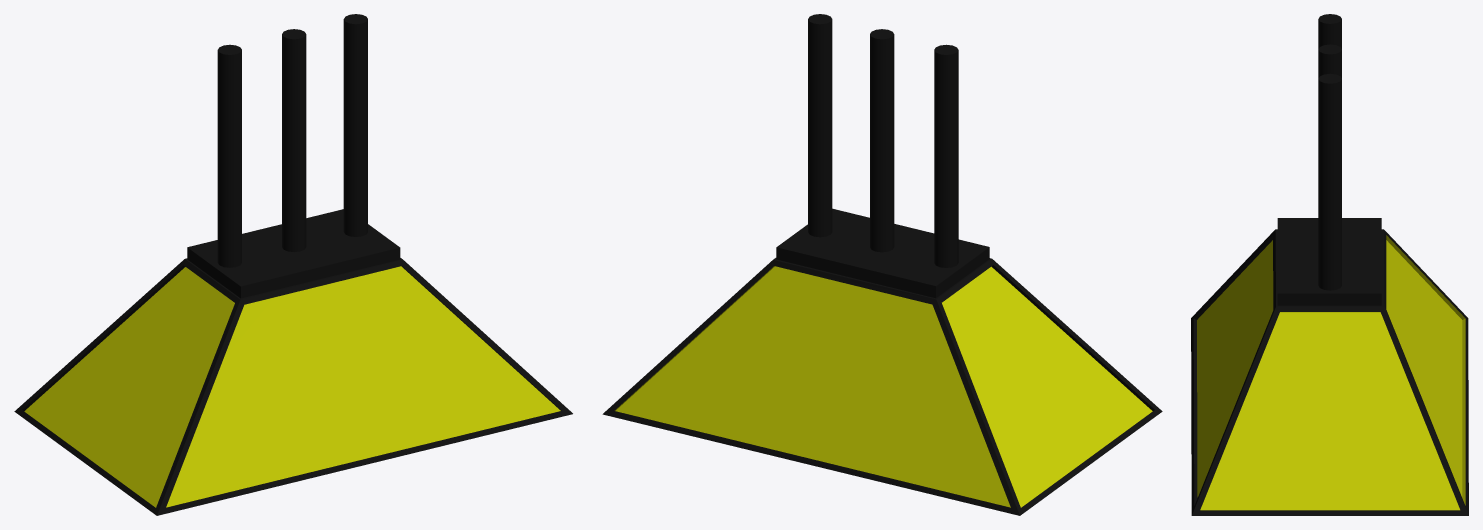
File: Lampara.fbx
The picture shows the model from 3 angles, left to right: view 1: azimuth 30°, elevation 25°; view 2: azimuth 150°, elevation 25°; view 3: azimuth 270°, elevation 25°; orthographic projection. The views are drawn at different scales.
Visible parts, largest first — view 1: Lampara; view 2: Lampara; view 3: Lampara.
Boxes of the visible parts, <box> form: Lampara: <box>14,14,572,515</box>; Lampara: <box>602,14,1162,515</box>; Lampara: <box>1191,14,1468,515</box>.
Bounding box in the file's own units: 71.29 × 61.81 × 42.33.
